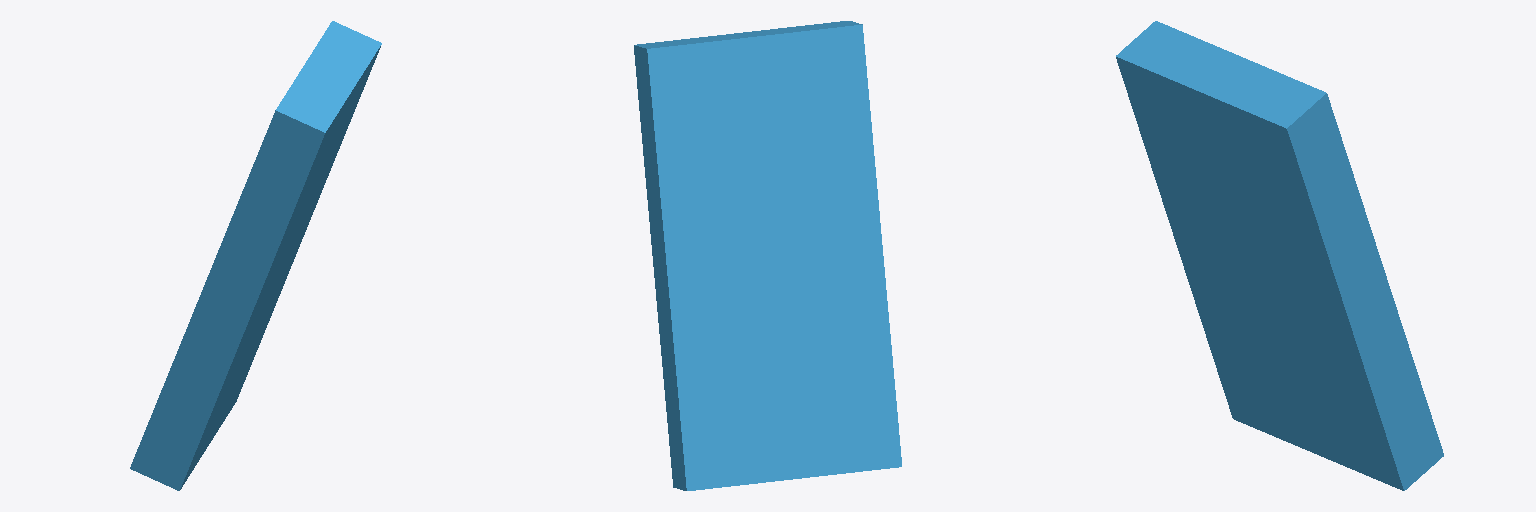
The robot description file, URDF, robot "camera_workroom":
<?xml version="1.0"?>
<robot xmlns:sensor="http://playerstage.sourceforge.net/gazebo/xmlschema/#sensor"
       xmlns:controller="http://playerstage.sourceforge.net/gazebo/xmlschema/#controller"
       xmlns:interface="http://playerstage.sourceforge.net/gazebo/xmlschema/#interface"
       xmlns:xacro="http://ros.org/wiki/xacro"
       name="camera_workroom">

<gazebo reference="camera_workroom"> 
      <sensor:camera name="camera_workroom">
        <imageSize>640 480</imageSize>
        <imageFormat>R8G8B8</imageFormat>
        <hfov>90</hfov>
        <nearClip>0.01</nearClip>
        <farClip>100</farClip>
        <updateRate>20.0</updateRate>
        <controller:gazebo_ros_camera name="camera_workroom_controller" plugin="libgazebo_ros_camera.so">
          <alwaysOn>true</alwaysOn>
          <updateRate>20.0</updateRate>
          <imageTopicName>angen_cameras/workroom/image</imageTopicName>
          <frameName>camera_workroom</frameName>
          <robotNamespace>camera</robotNamespace>
          <interface:camera name="camera_workroom_iface" />
        </controller:gazebo_ros_camera>
      </sensor:camera>
      <turnGravityOff>true</turnGravityOff>
      <material>Gazebo/Blue</material>   
  </gazebo>

<link name="world"/>
  <joint name="camera_workroom_pose" type="fixed">
    <axis xyz="1 0 0"/>
    <parent link="world"/>
    <origin rpy="0 0.35 -0.785" xyz="0.1 8.2 2.3"/>
    <child link="camera_workroom"/>
    <dynamics damping="100" friction="1000"/>
  </joint>
  
<link name="camera_workroom">
     <inertial>
      <origin xyz="0 0 0" rpy="0 0 0" /> 
      <mass value="0.3" />
      <inertia  ixx="0.3" ixy="0.0"  ixz="0.0"  iyy="0.001"  iyz="0.0"  izz="0.05" />
    </inertial>
    <visual>
      <origin xyz="0 0 0" rpy="0 0 0" /> 
      <geometry>
        <box size=".025 .1 .2" />
      </geometry>
    </visual>
    <collision name="camera_workroom">
     <origin xyz="0 0 0" rpy="0 0 0" /> 
      <geometry>
       <box size=".025 .1 .2" />
      </geometry>
    </collision>
  </link>
</robot>

--- Render facts (derived) ---
The picture shows the robot from 3 angles, left to right: view 1: azimuth 30°, elevation 25°; view 2: azimuth 150°, elevation 25°; view 3: azimuth 270°, elevation 25°; orthographic projection.
Robot: camera_workroom — 2 links, 1 joints (1 fixed); root link world; default pose: every joint at zero.
Visible links, largest first — view 1: camera_workroom; view 2: camera_workroom; view 3: camera_workroom.
Boxes of the visible links, bbox=[...] form: camera_workroom: bbox=[130, 21, 381, 490]; camera_workroom: bbox=[634, 21, 901, 490]; camera_workroom: bbox=[1116, 21, 1443, 490].
Bounding box of the posed robot: 0.1358 × 0.1358 × 0.1964 m (x, y, z).
Geometry: primitives only (box / cylinder / sphere), no mesh files.